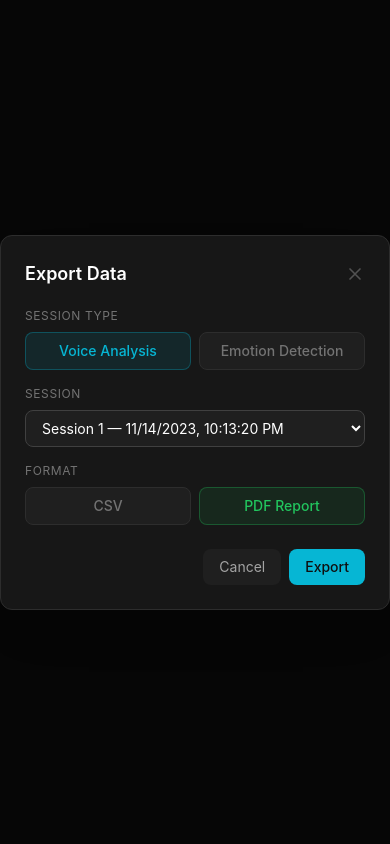
Scenario: ExportDialog › shows the validation message in the dialog and stays open when export fails
Click the button "Export": (327, 566) [289,548,365,584]
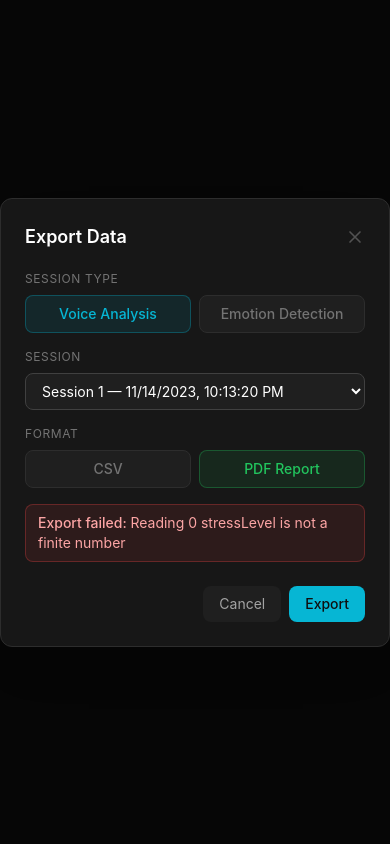
Expected: the message shows "stressLevel", [38,514,328,550]
